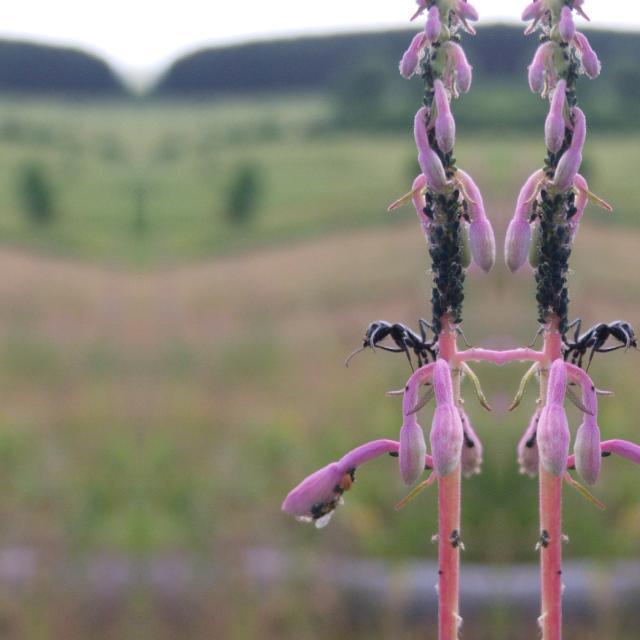Camponotus: (350, 306, 458, 390), (542, 306, 640, 390)
